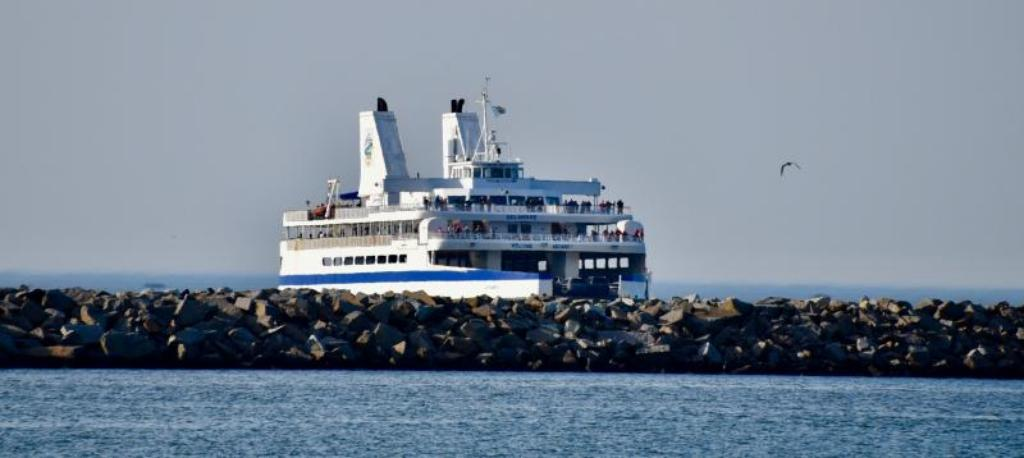PassengerShip: (269, 83, 673, 307)
